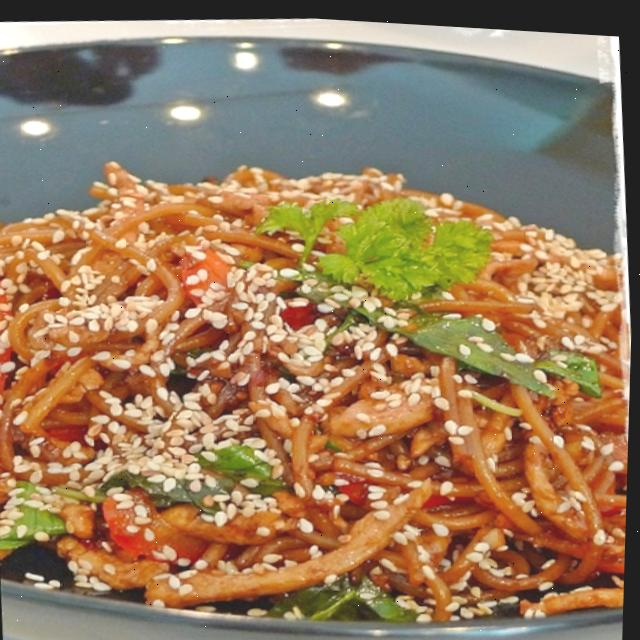鸡肉料理 含炸鸡: (0, 28, 639, 640)
